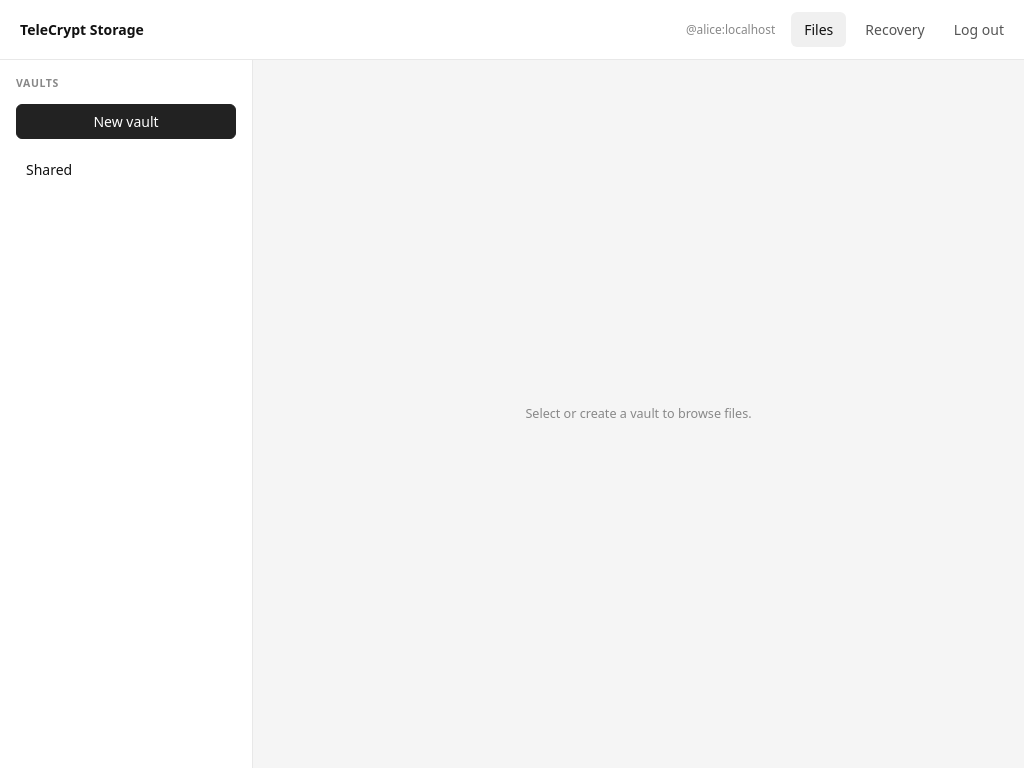
Test case: vaults › hides access mutations from non-owners
Expected: the text with test id "current-user" reads "@alice:localhost", [686,21,775,37]
Step 1. Click the button "Shared" → (126, 169), box [16,151,236,188]
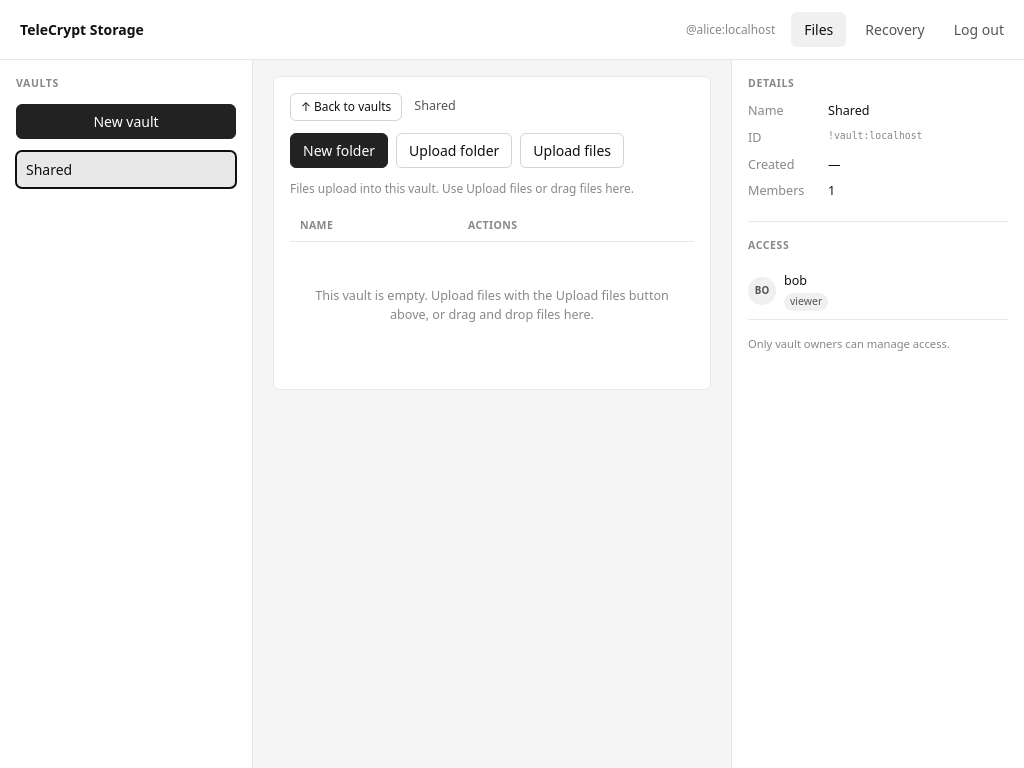
Expected: the element with test id "vault-detail" is shown, [273,76,711,390]
Expected: the list item with test id "member-item" is shown, [748,264,1008,320]
Expected: the text with test id "members-readonly" reads "Only vault owners can manage access.", [748,336,950,351]
